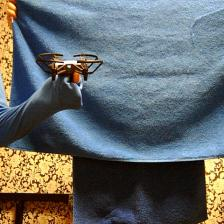drone: (38, 49, 103, 82)
